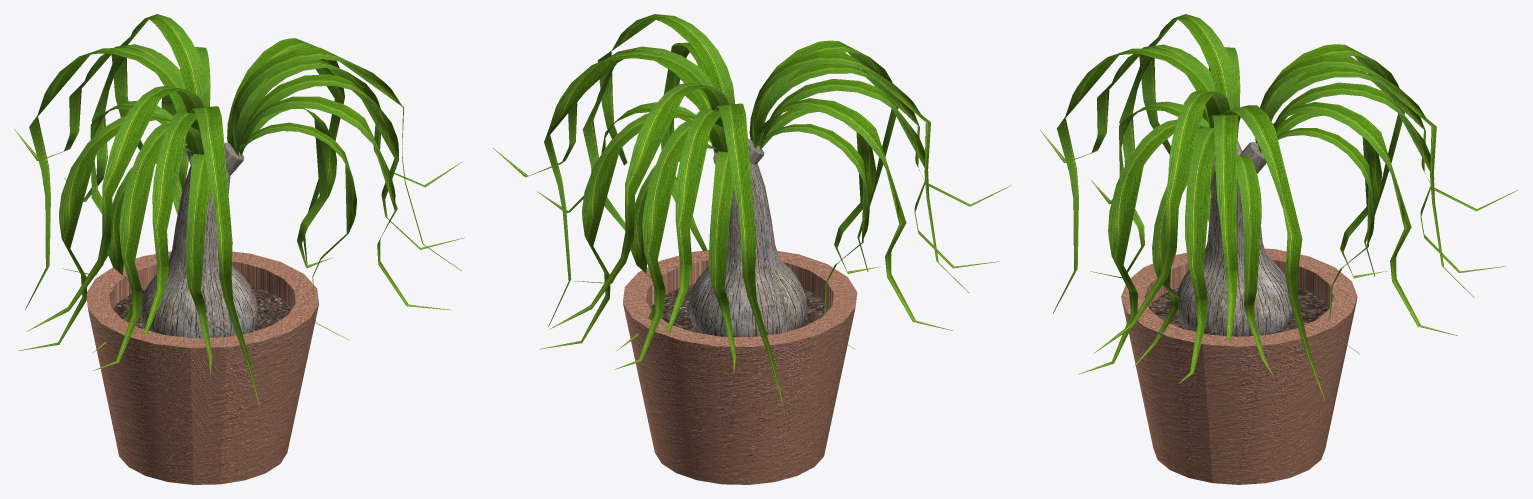
File: ponytail-palm.glb
3 views of the same model, side by side, from view 1: azimuth 30°, elevation 25°; view 2: azimuth 150°, elevation 25°; view 3: azimuth 270°, elevation 25° (orthographic).
Parts seen in each view (by area): view 1: Object_29, Object_26, Object_3, Object_19, Object_4, Object_10, Object_12, Object_13, Object_6, Object_11, Object_21, Object_24 (+12 smaller); view 2: Object_29, Object_26, Object_27, Object_13, Object_21, Object_23, Object_16, Object_15, Object_22, Object_7, Object_6, Object_10 (+12 smaller); view 3: Object_29, Object_26, Object_3, Object_16, Object_24, Object_7, Object_9, Object_18, Object_10, Object_4, Object_17, Object_15 (+11 smaller).
Boxes of the visible parts, bbox=[...] form: Object_29: bbox=[86, 251, 318, 484]; Object_26: bbox=[140, 165, 258, 338]; Object_3: bbox=[109, 261, 295, 484]; Object_19: bbox=[93, 123, 204, 370]; Object_4: bbox=[191, 106, 260, 408]; Object_10: bbox=[26, 85, 204, 331]; Object_12: bbox=[130, 112, 198, 333]; Object_13: bbox=[25, 48, 187, 310]; Object_6: bbox=[18, 112, 170, 350]; Object_11: bbox=[185, 154, 212, 375]; Object_21: bbox=[111, 14, 209, 149]; Object_24: bbox=[239, 74, 464, 249]; Object_29: bbox=[623, 250, 857, 484]; Object_26: bbox=[688, 162, 807, 337]; Object_27: bbox=[615, 120, 727, 369]; Object_13: bbox=[715, 103, 783, 407]; Object_21: bbox=[549, 82, 729, 329]; Object_23: bbox=[652, 109, 721, 332]; Object_16: bbox=[597, 14, 734, 165]; Object_15: bbox=[540, 109, 694, 349]; Object_22: bbox=[709, 151, 736, 374]; Object_7: bbox=[544, 51, 708, 326]; Object_6: bbox=[753, 98, 952, 330]; Object_10: bbox=[752, 51, 968, 292]; Object_29: bbox=[1121, 248, 1357, 484]; Object_26: bbox=[1176, 169, 1293, 336]; Object_3: bbox=[1145, 259, 1333, 482]; Object_16: bbox=[1095, 91, 1230, 352]; Object_24: bbox=[1178, 127, 1215, 383]; Object_7: bbox=[1221, 105, 1325, 402]; Object_9: bbox=[1078, 119, 1206, 374]; Object_18: bbox=[1211, 115, 1238, 340]; Object_10: bbox=[1139, 14, 1239, 154]; Object_4: bbox=[1053, 48, 1215, 313]; Object_17: bbox=[1237, 155, 1273, 375]; Object_15: bbox=[1258, 102, 1457, 335].
Bounding box in the file's own units: 21.12 × 17.29 × 19.03.
27 materials, 27 textured.
